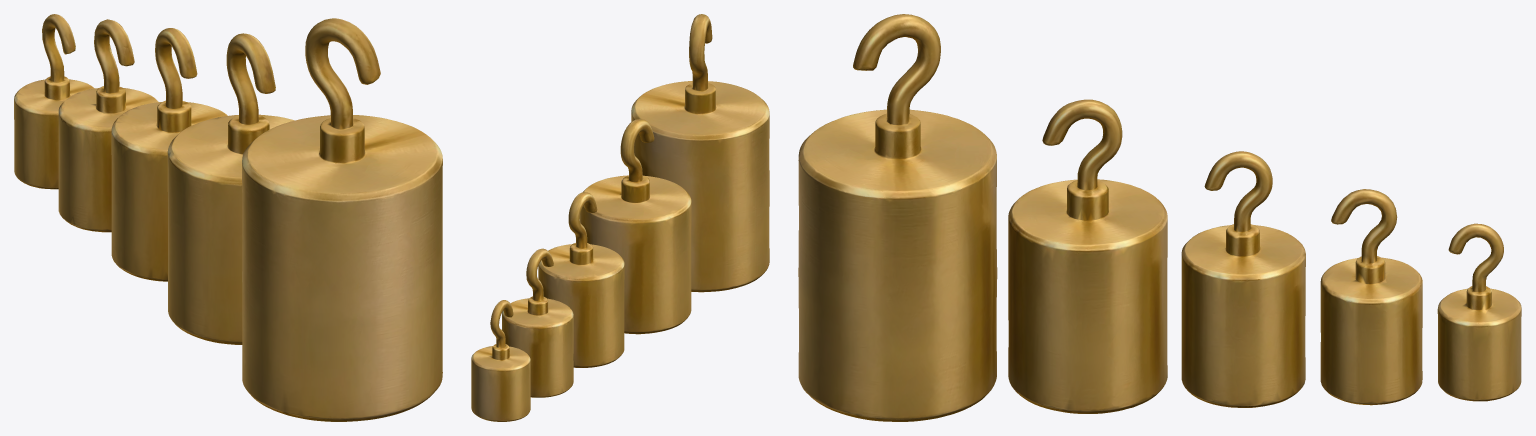
File: hooked-weights.glb
3 views of the same model, side by side, from view 1: azimuth 30°, elevation 25°; view 2: azimuth 150°, elevation 25°; view 3: azimuth 270°, elevation 25° (orthographic). The views are drawn at different scales.
Parts seen in each view (by area): view 1: hooked-weights; view 2: hooked-weights; view 3: hooked-weights.
Boxes of the visible parts, box(x1,y1,x2,y2) form: hooked-weights: box(14, 14, 442, 421); hooked-weights: box(471, 14, 769, 421); hooked-weights: box(798, 14, 1521, 421).
Bounding box in the file's own units: 0.0708 × 0.1401 × 0.25.
Materials: 1 (1 with a texture image).
